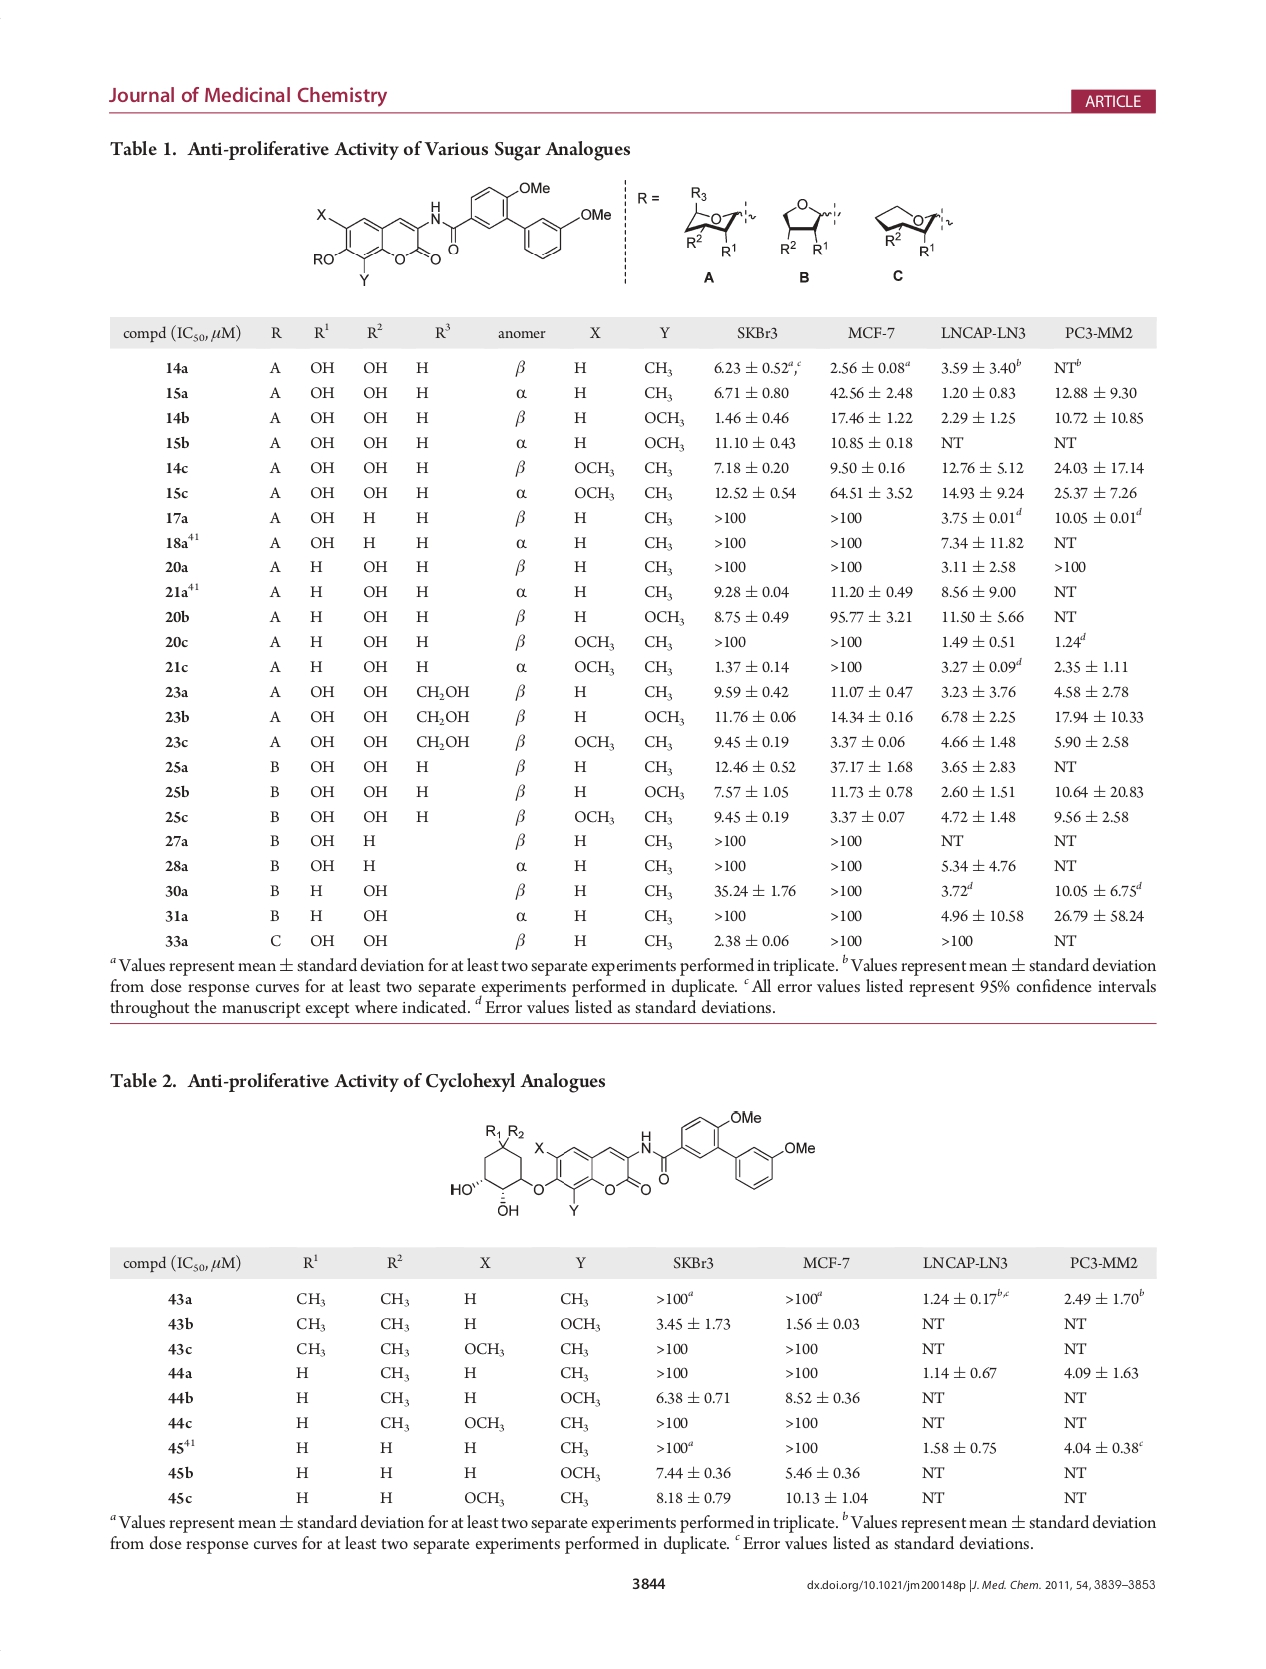exist_molecular: (445, 1108, 818, 1222), (309, 176, 616, 289), (677, 176, 761, 261), (872, 203, 955, 262), (777, 189, 842, 262)
